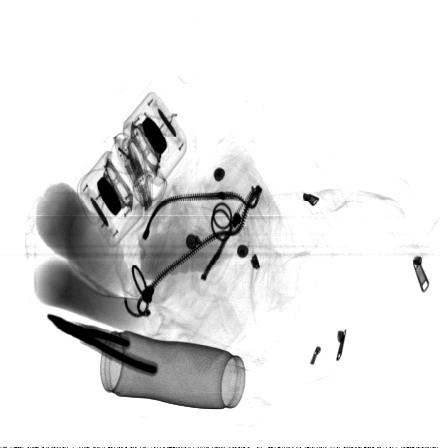Pliers: (45, 312, 158, 378)
